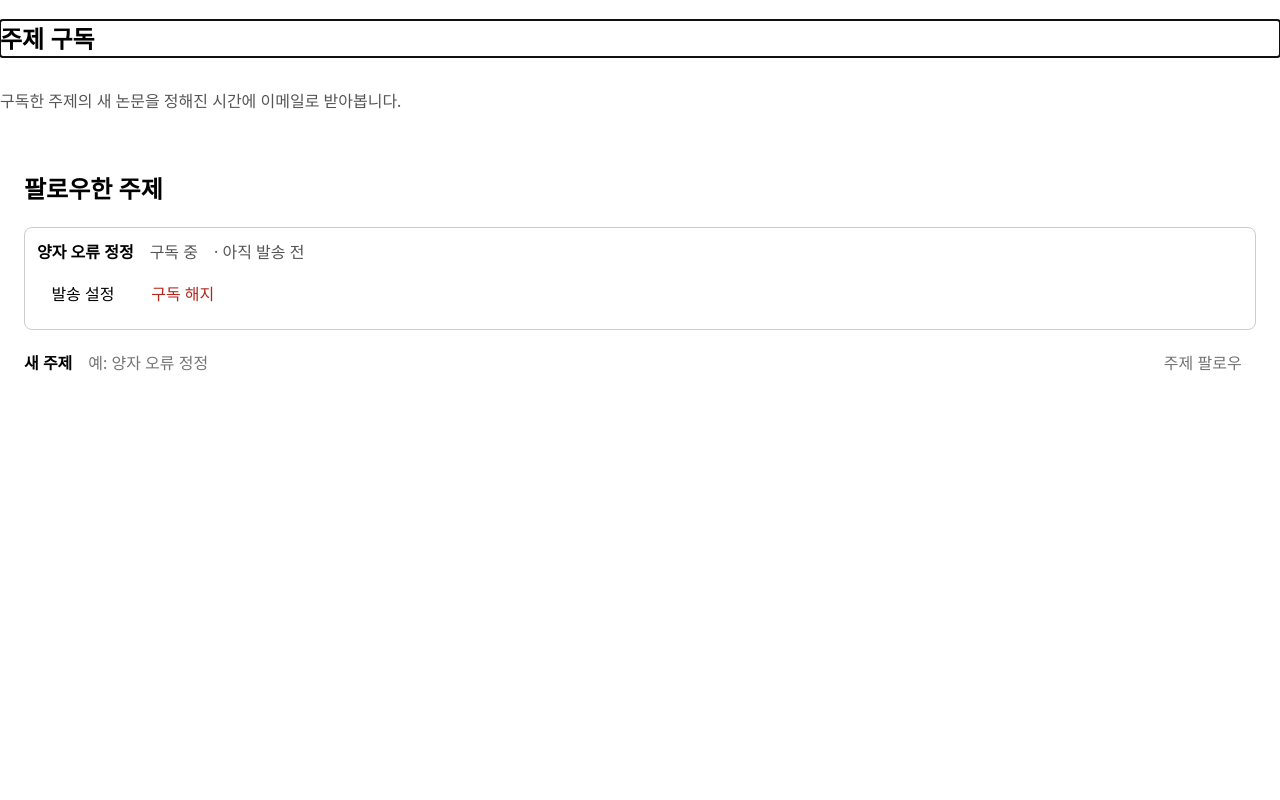
Test: follow and unsubscribe › confirms unsubscribe with the topic name and queued-work note, then removes the row
Click the button with test id "unsubscribe-button" at (183, 295), box x1=137 y1=273 x2=229 y2=317
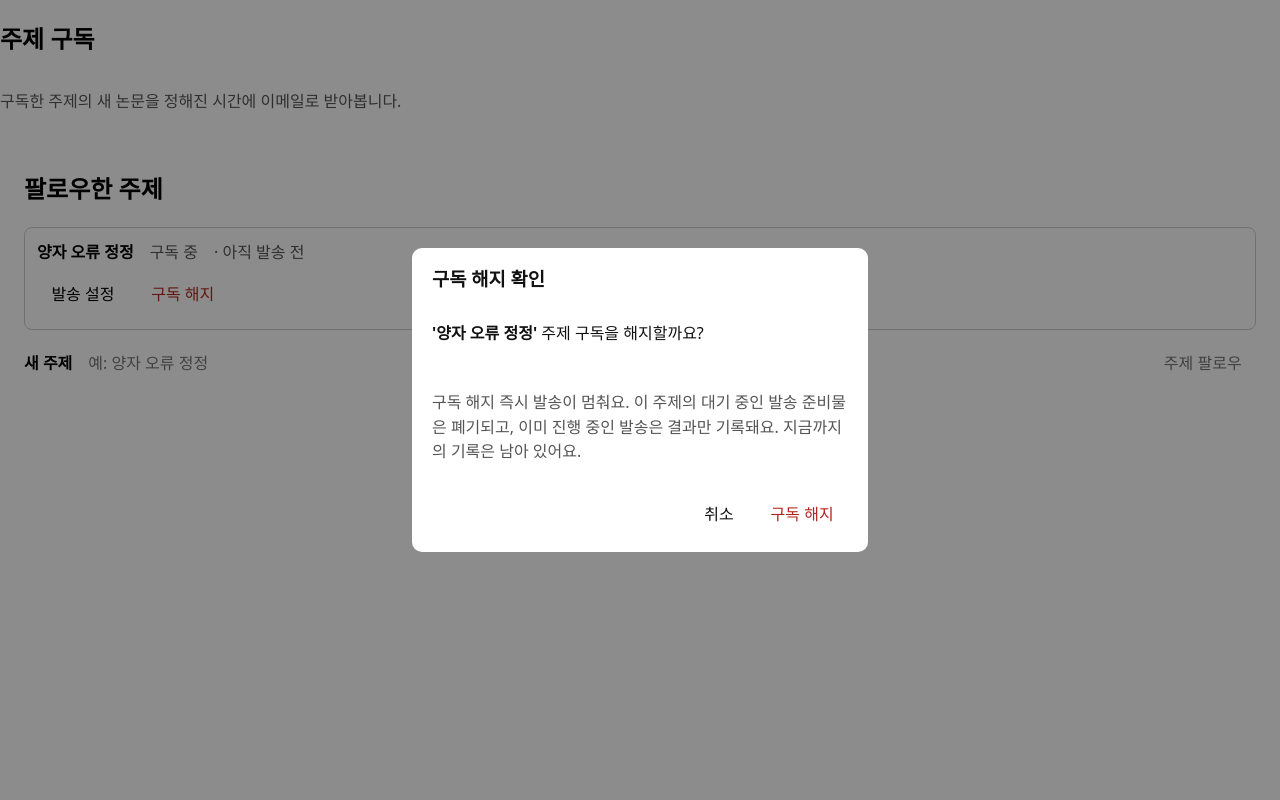
Now the dialog with test id "confirm-dialog" shows "양자 오류 정정", box x1=436 y1=322 x2=533 y2=344
Now the dialog with test id "confirm-dialog" shows "폐기", box x1=412 y1=248 x2=868 y2=552
Click the button with test id "confirm-dialog-confirm" at (802, 514), box x1=756 y1=492 x2=848 y2=536
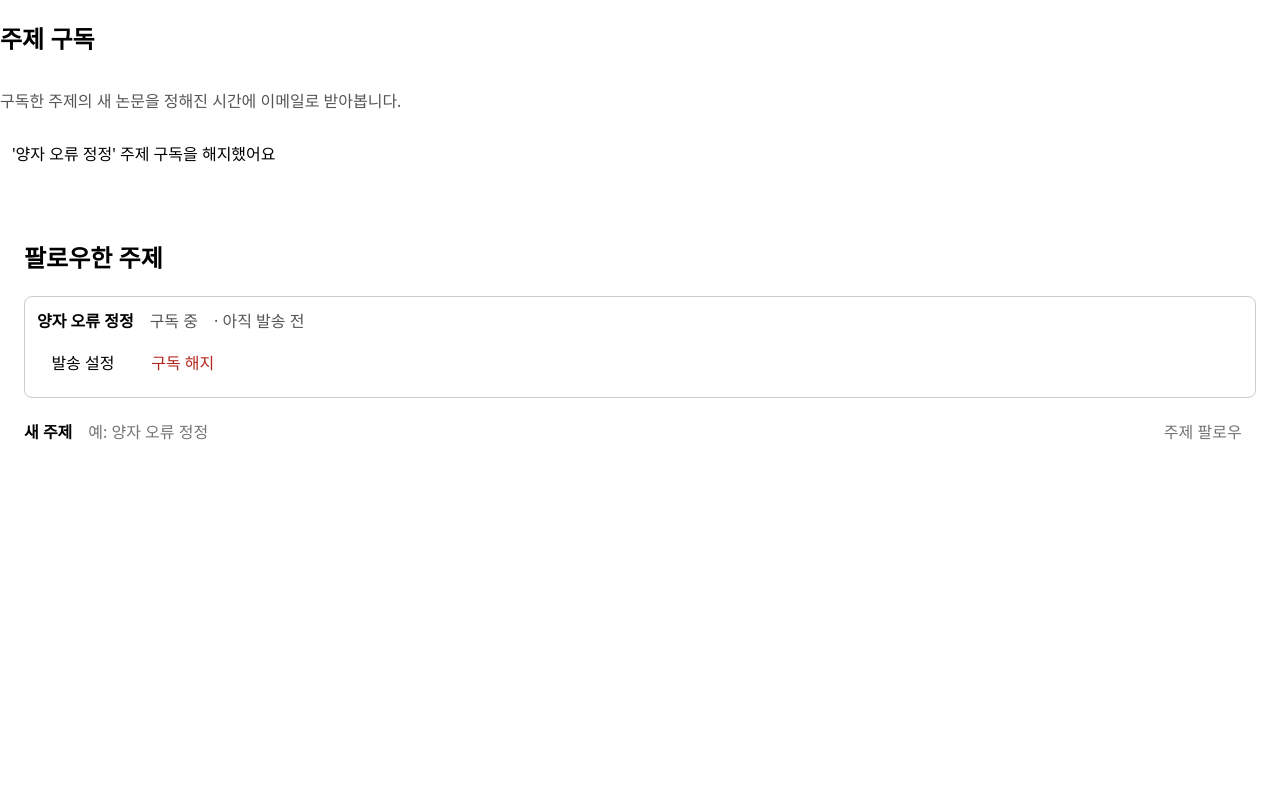
Now the text "'양자 오류 정정' 주제 구독을 해지했어요" is shown, box x1=12 y1=143 x2=276 y2=165
